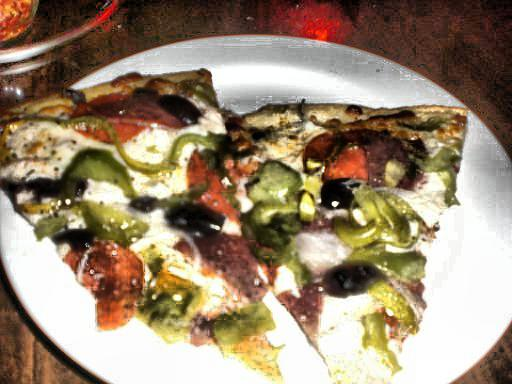pizza: (5, 91, 475, 379)
